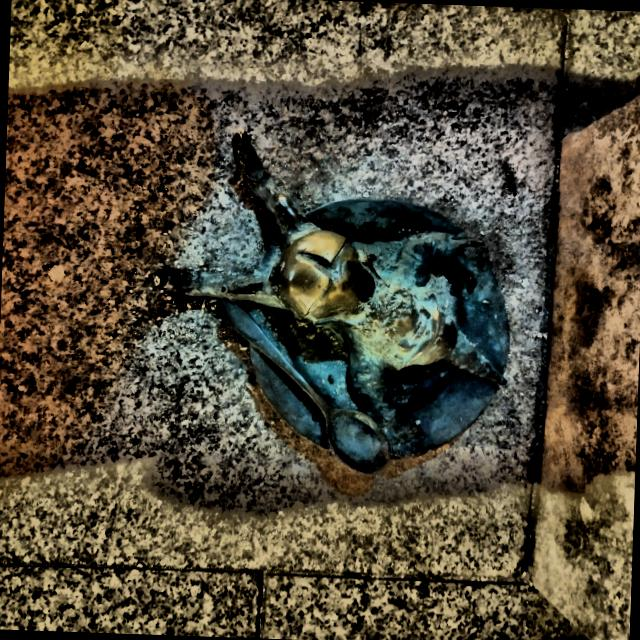Obiezysmak: (155, 131, 510, 475)
